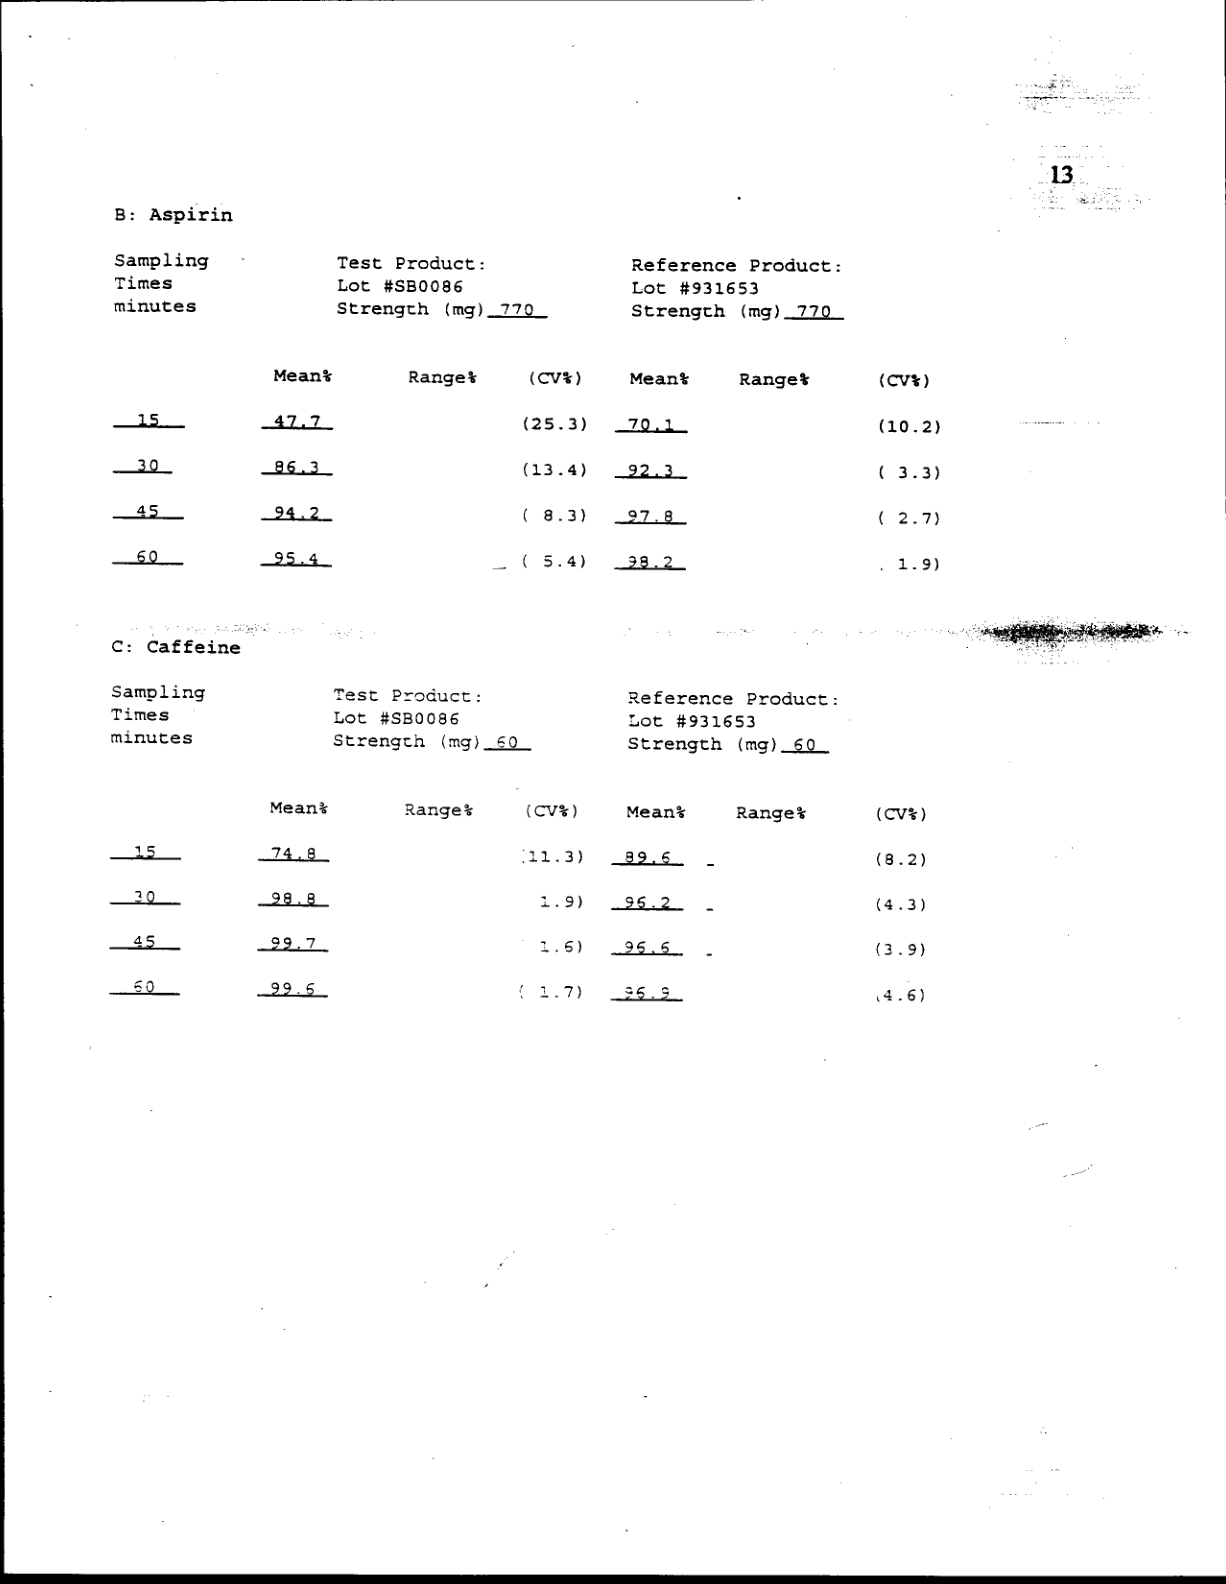nolines: (112, 370, 939, 577), (109, 801, 929, 1005), (107, 683, 834, 757), (111, 249, 847, 323)
